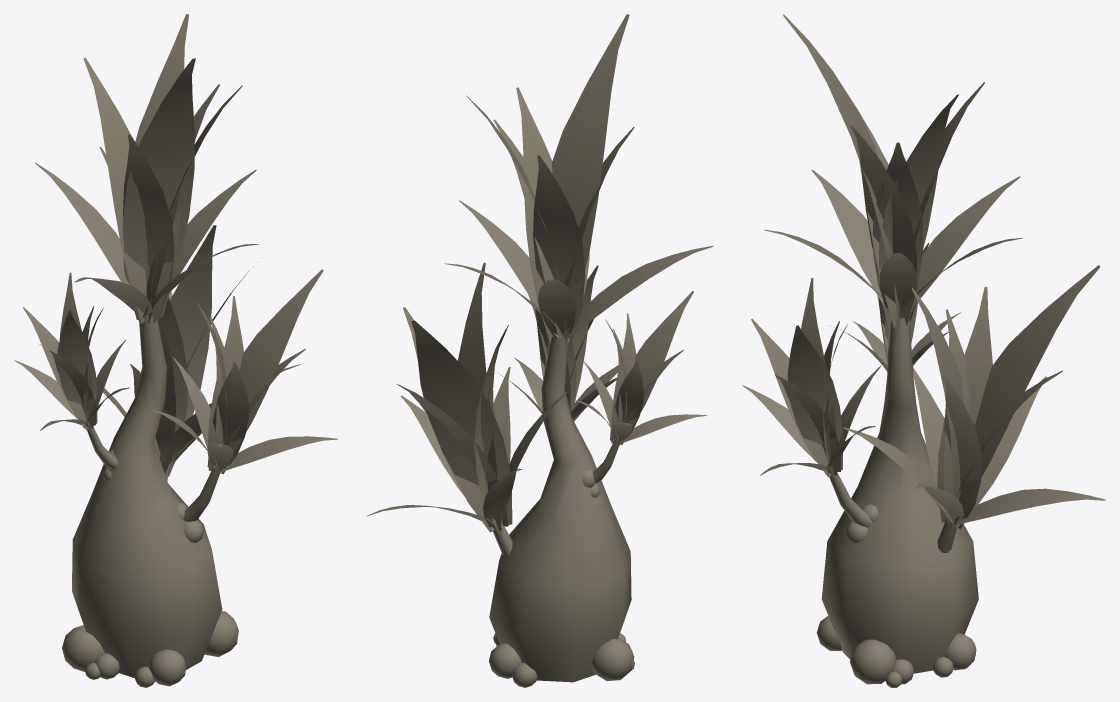
File: Fire_Concept.FBX
3 renders of one model, left to right at view 1: azimuth 30°, elevation 25°; view 2: azimuth 150°, elevation 25°; view 3: azimuth 270°, elevation 25°, orthographic. The views are drawn at different scales.
Parts seen in each view (by area): view 1: Cylinder002; view 2: Cylinder002; view 3: Cylinder002.
Boxes of the visible parts, x1,y1,x2,y2 form: Cylinder002: (14,14,337,687); Cylinder002: (366,14,713,687); Cylinder002: (742,14,1105,687).
Size of the model in its own units: 72.52 by 154 by 79.19.
